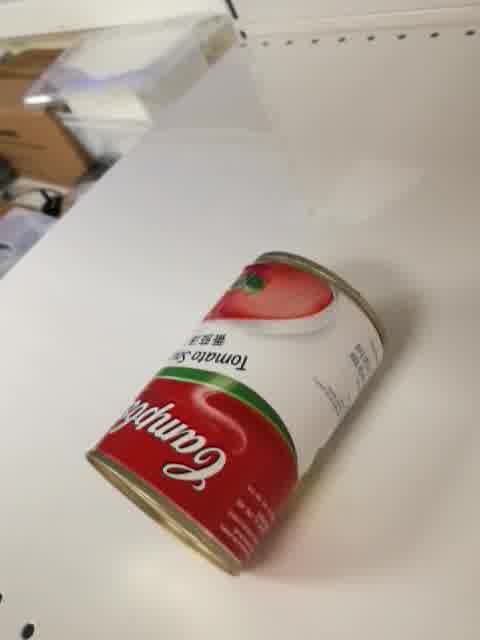tomatosoup: (83, 247, 392, 579)
